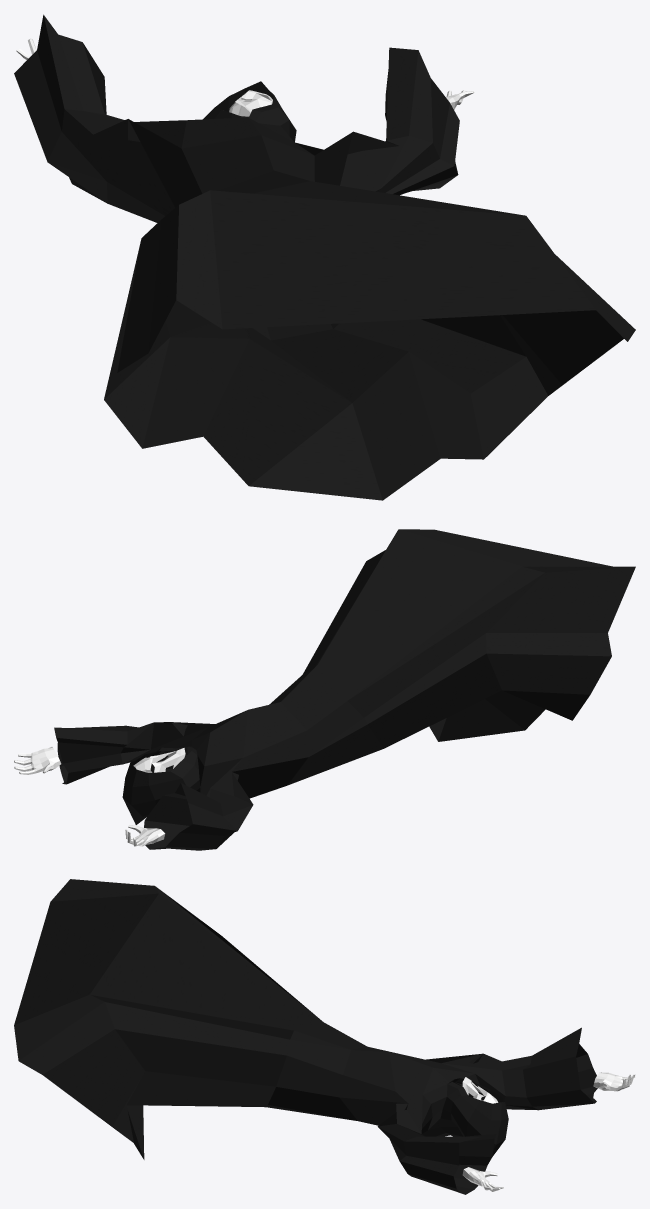
The model's file is ReaperDead(86).obj.
3 renders of one model, top to bottom at view 1: azimuth 30°, elevation 25°; view 2: azimuth 150°, elevation 25°; view 3: azimuth 270°, elevation 25°, orthographic. The views are drawn at different scales.
Parts seen in each view (by area): view 1: Plane003; view 2: Plane003; view 3: Plane003.
Boxes of the visible parts, left/top/right/bottom form: Plane003: left=14, top=14, right=635, bottom=500; Plane003: left=14, top=529, right=635, bottom=850; Plane003: left=14, top=879, right=635, bottom=1194.
Size of the model in its own units: 211 by 103 by 293.
